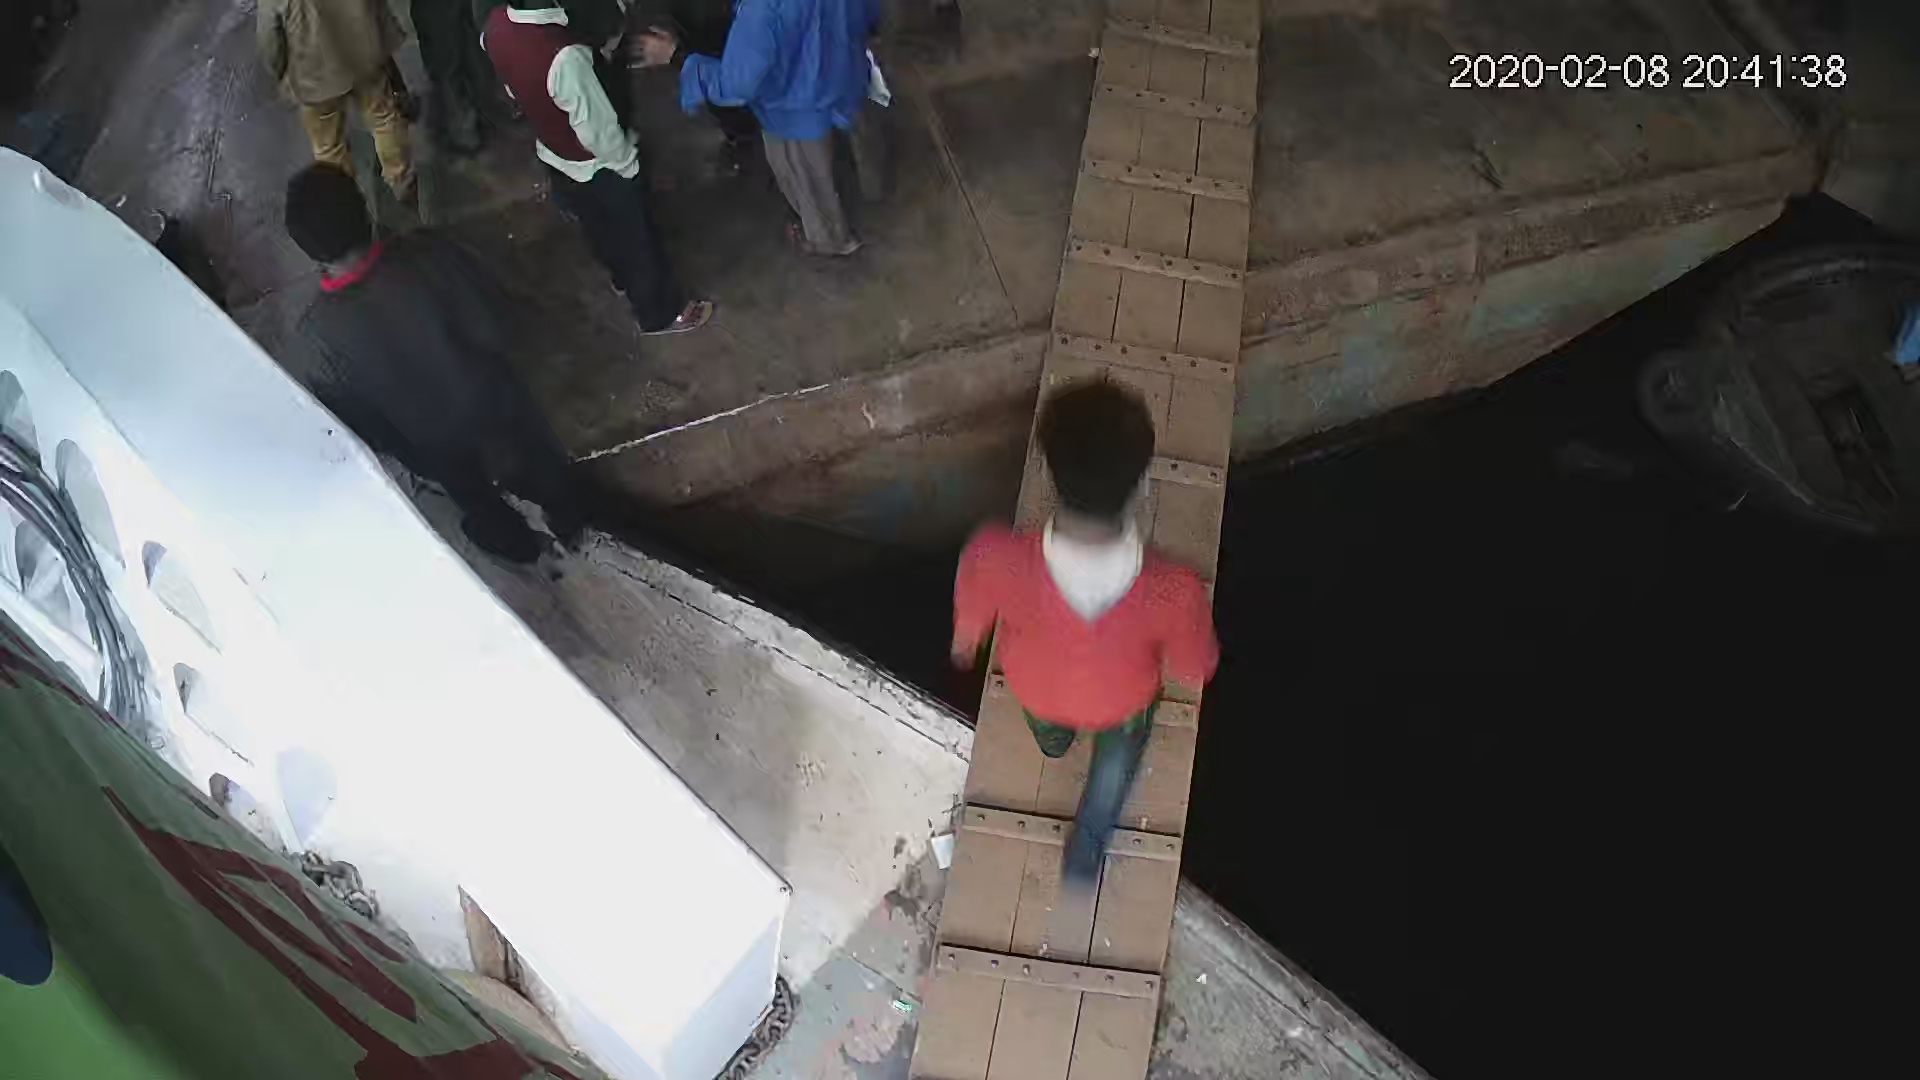person: (938, 370, 1242, 882), (286, 165, 592, 566)
